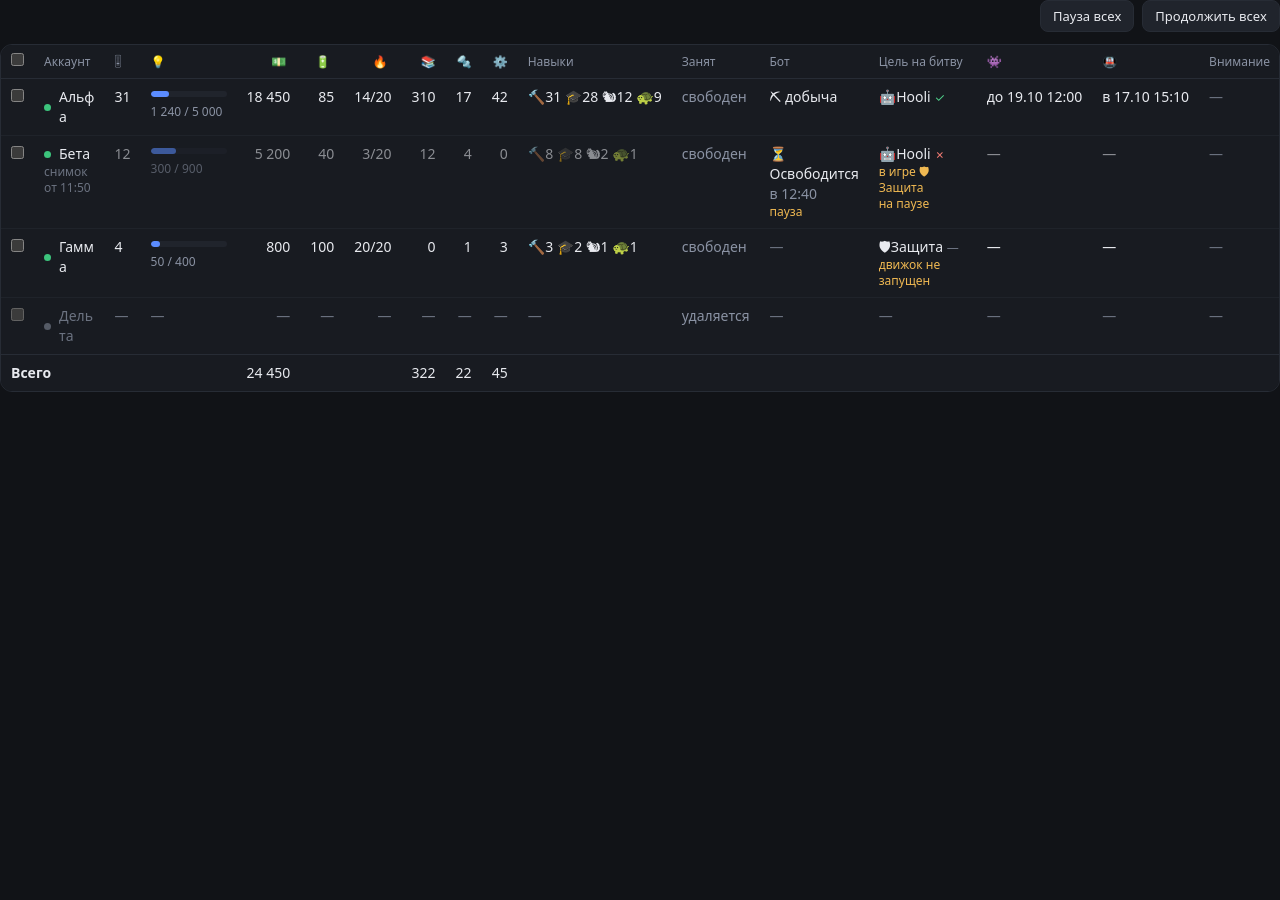
Scenario: «Настройка…» › значение можно взять у аккаунта
This screenshot has width=1280, height=900.
Expected: the table is shown, [1,45,1279,391]
Click the checkbox named "Выбрать Альфа" at (18, 96), box [11,89,24,102]
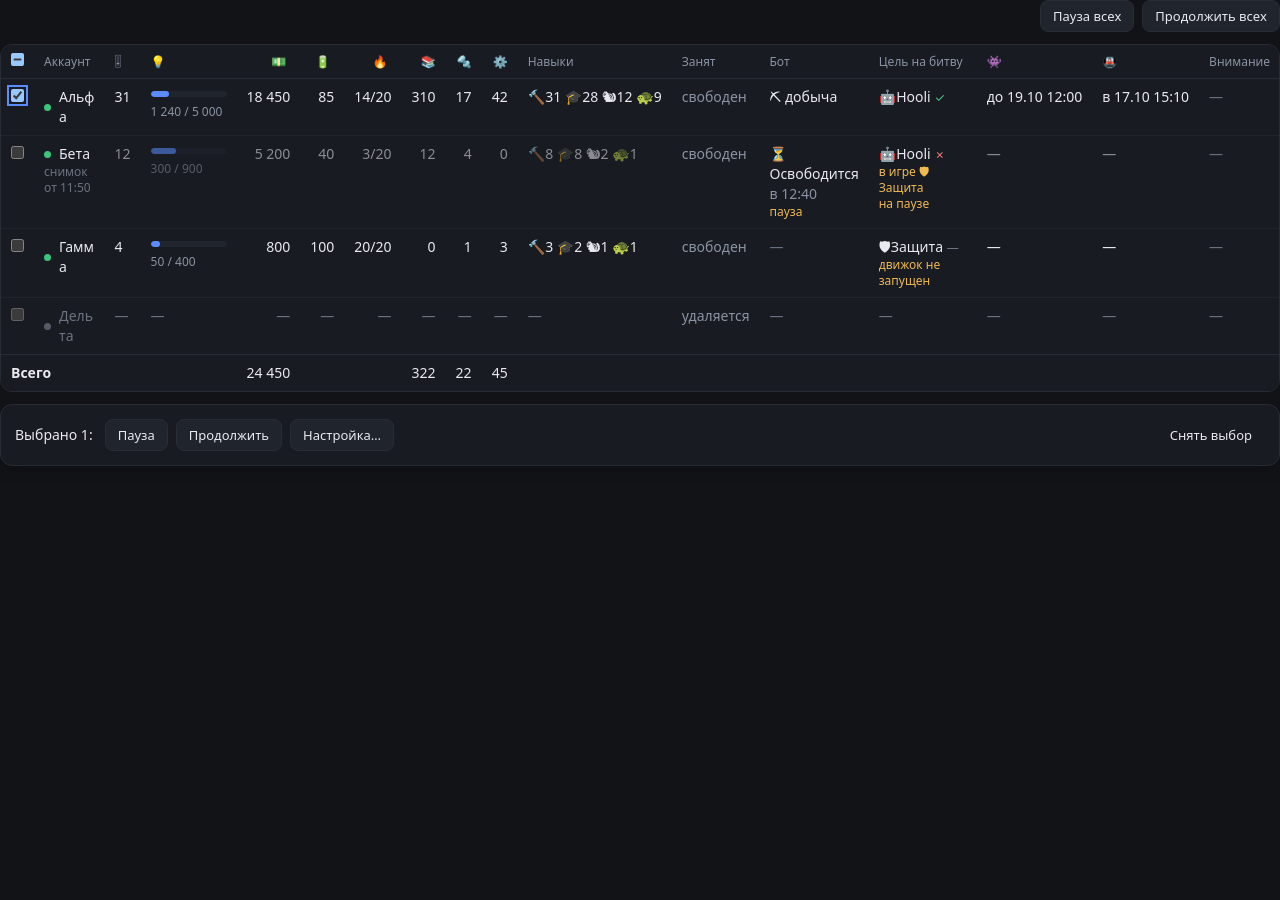
Click the checkbox named "Выбрать Бета" at (18, 152), box [11,146,24,159]
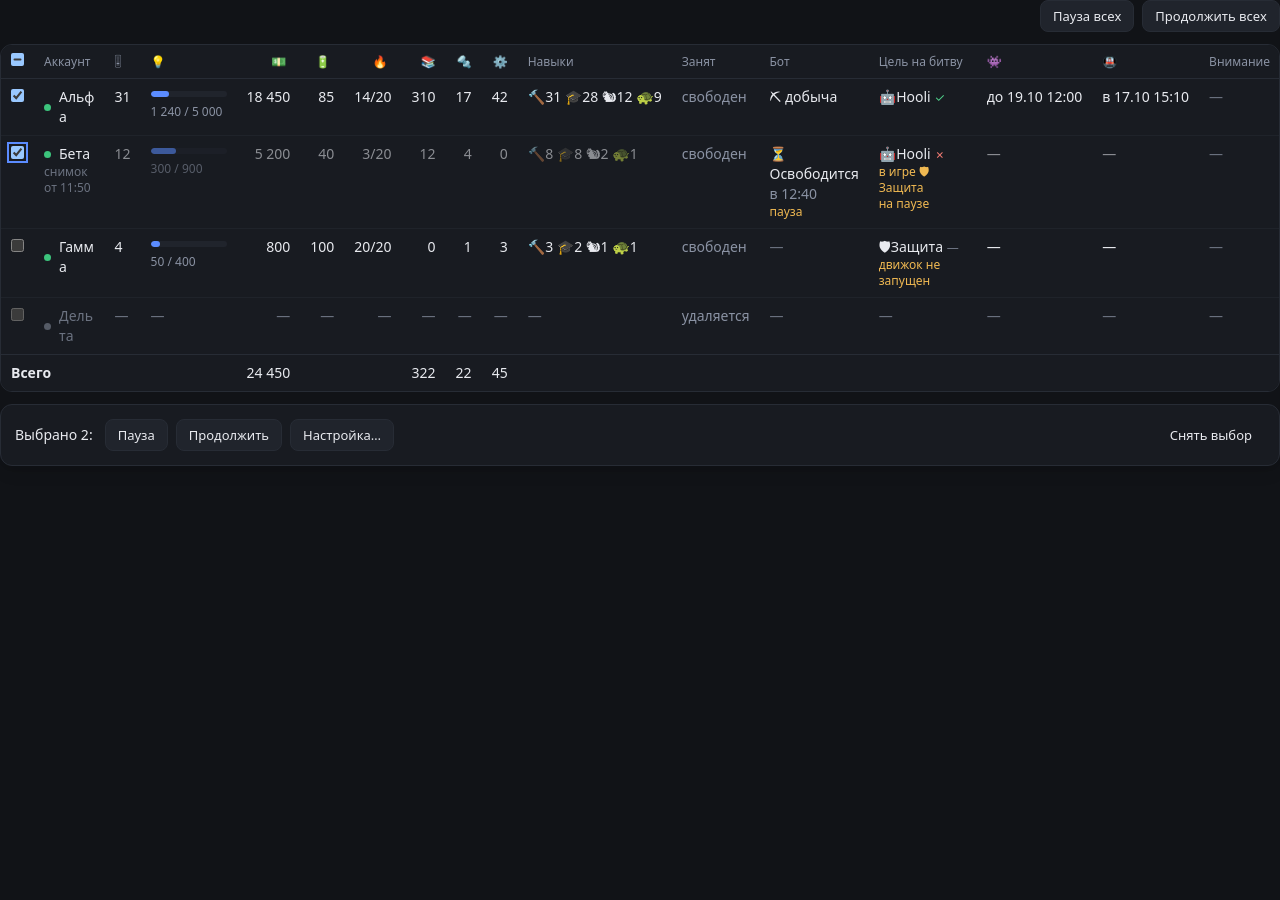
Click the button "Настройка…" at (342, 435), box [290,419,394,451]
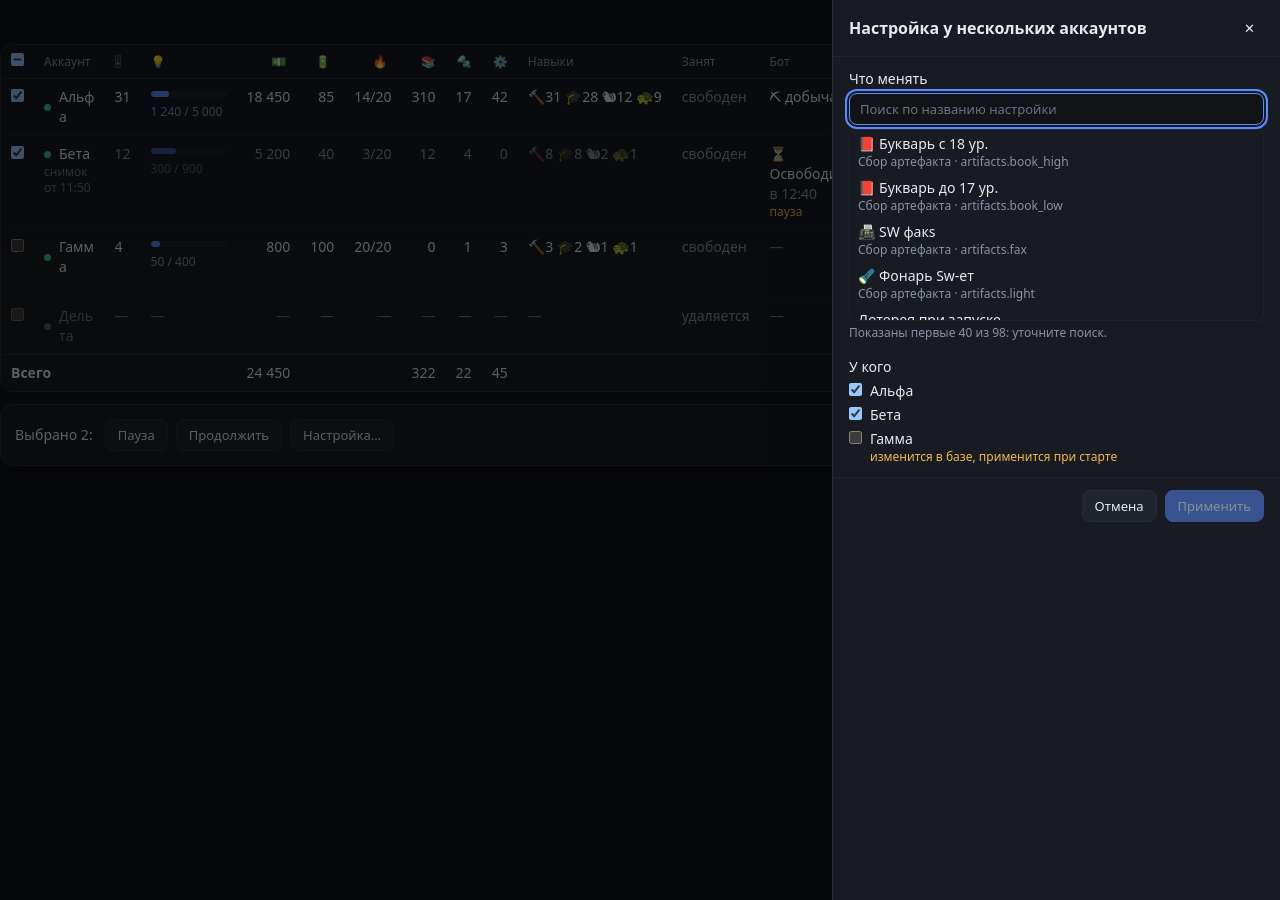
Type "banana_reserve" into the search field named "Поиск настройки" at (1056, 109), box [849,93,1264,125]
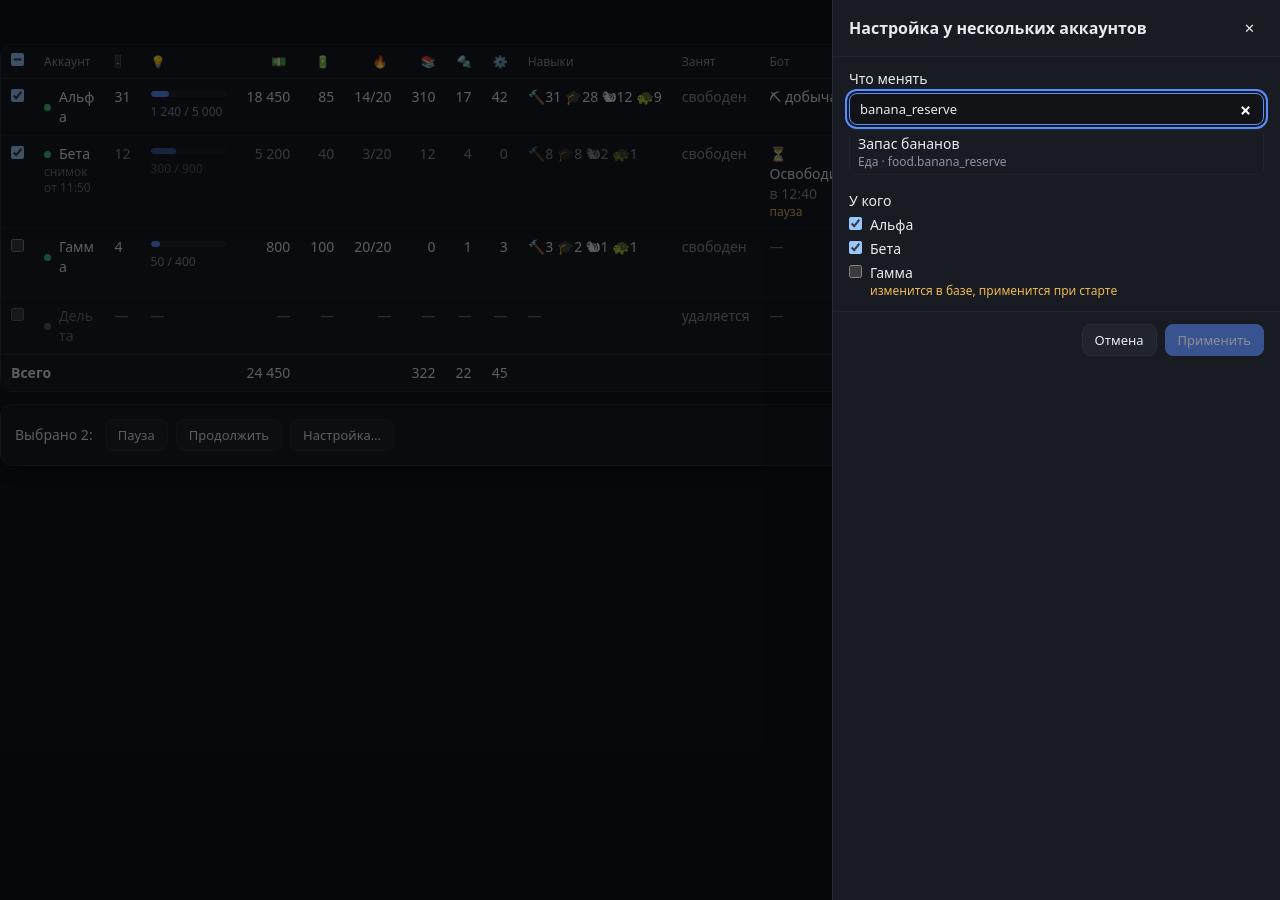
Click the button "Запас бананов Еда · food.banana_reserve" at (909, 144), box [850,130,1263,174]
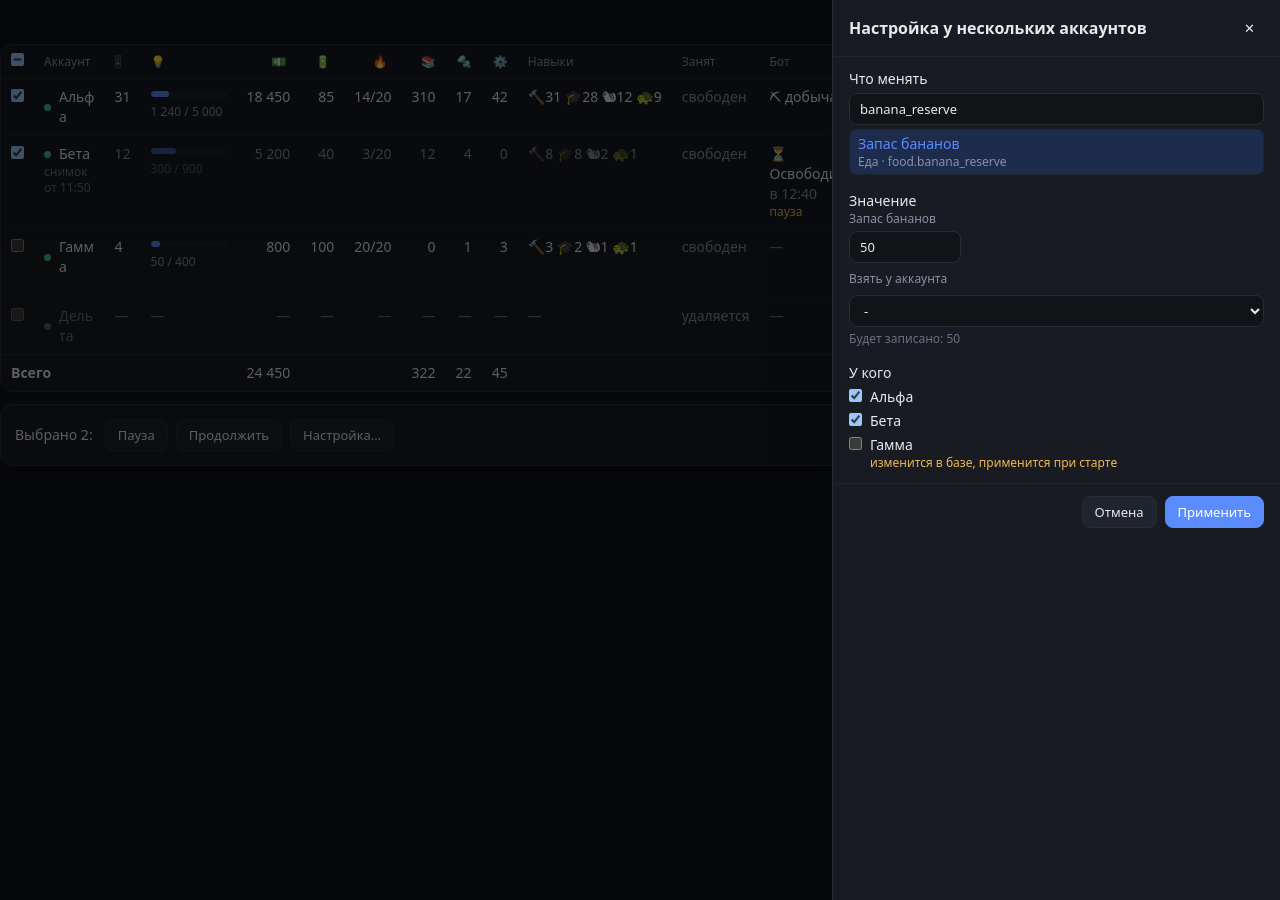
Select "Гамма" in the dropdown labelled "Взять у аккаунта" at (1056, 311), box [849,295,1264,327]
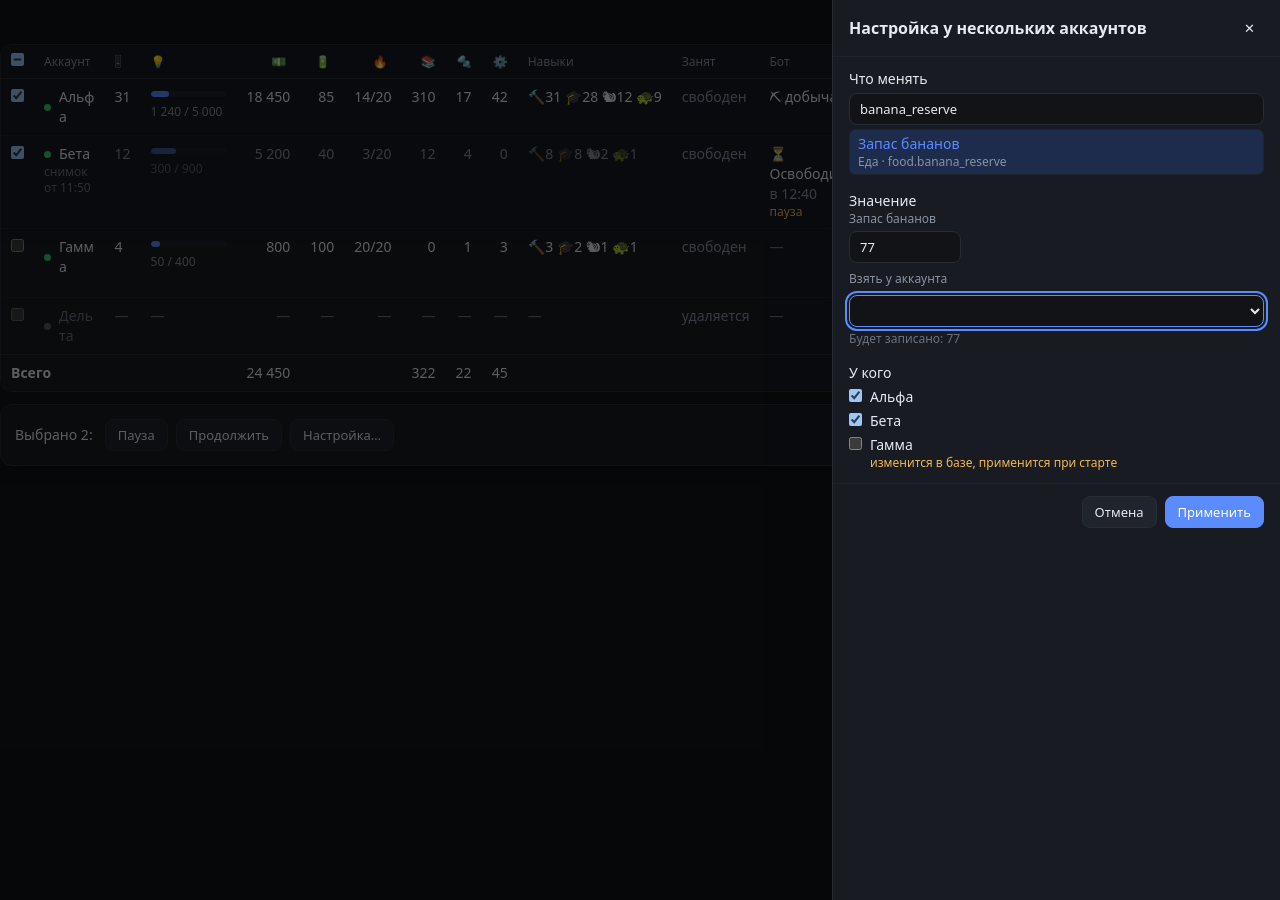
Expected: the number field named "Запас бананов" holds "77", [849,231,961,263]
